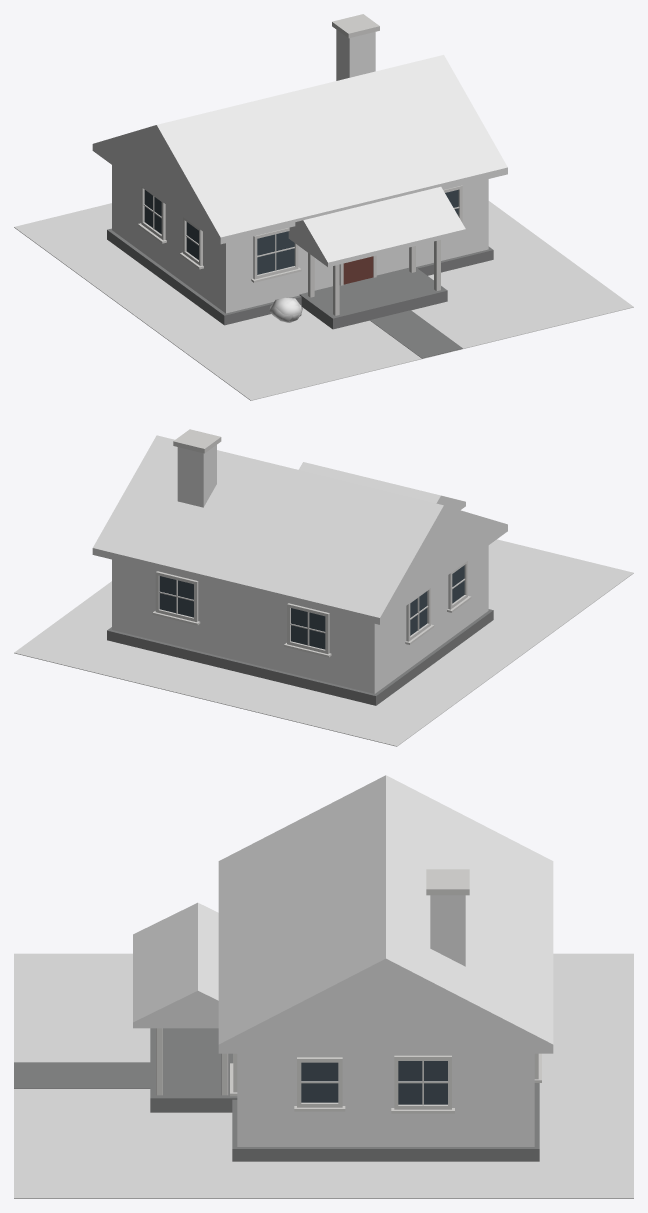
The model's file is city_house_a.fbx.
3 renders of one model, top to bottom at view 1: azimuth 30°, elevation 25°; view 2: azimuth 150°, elevation 25°; view 3: azimuth 270°, elevation 25°, orthographic. The views are drawn at different scales.
Parts seen in each view (by area): view 1: roof1_1, grass_1, wall5_1, concrete_1, trim_1, glass_1, brick_1, door_1, leafhedge_1; view 2: roof1_1, grass_1, wall5_1, concrete_1, trim_1, glass_1, brick_1; view 3: roof1_1, grass_1, wall5_1, concrete_1, trim_1, glass_1, brick_1.
Part boxes in pixels (x1,y1,x2,y2): roof1_1: (92, 55, 507, 267); grass_1: (14, 201, 633, 400); wall5_1: (112, 165, 488, 313); concrete_1: (107, 228, 493, 358); trim_1: (138, 14, 462, 315); glass_1: (144, 189, 458, 274); brick_1: (336, 30, 375, 80); door_1: (343, 256, 373, 284); leafhedge_1: (269, 297, 302, 322); roof1_1: (92, 435, 507, 624); grass_1: (14, 539, 633, 746); wall5_1: (112, 545, 488, 693); concrete_1: (107, 609, 493, 705); trim_1: (152, 429, 471, 657); glass_1: (159, 565, 464, 649); brick_1: (177, 445, 216, 507); roof1_1: (133, 775, 553, 1053); grass_1: (14, 953, 633, 1198); wall5_1: (237, 1053, 534, 1146); concrete_1: (14, 1028, 539, 1161); trim_1: (156, 869, 541, 1113); glass_1: (301, 1061, 447, 1104); brick_1: (430, 895, 465, 966).
Size of the model in its own units: 1.4 by 0.662 by 1.5.
